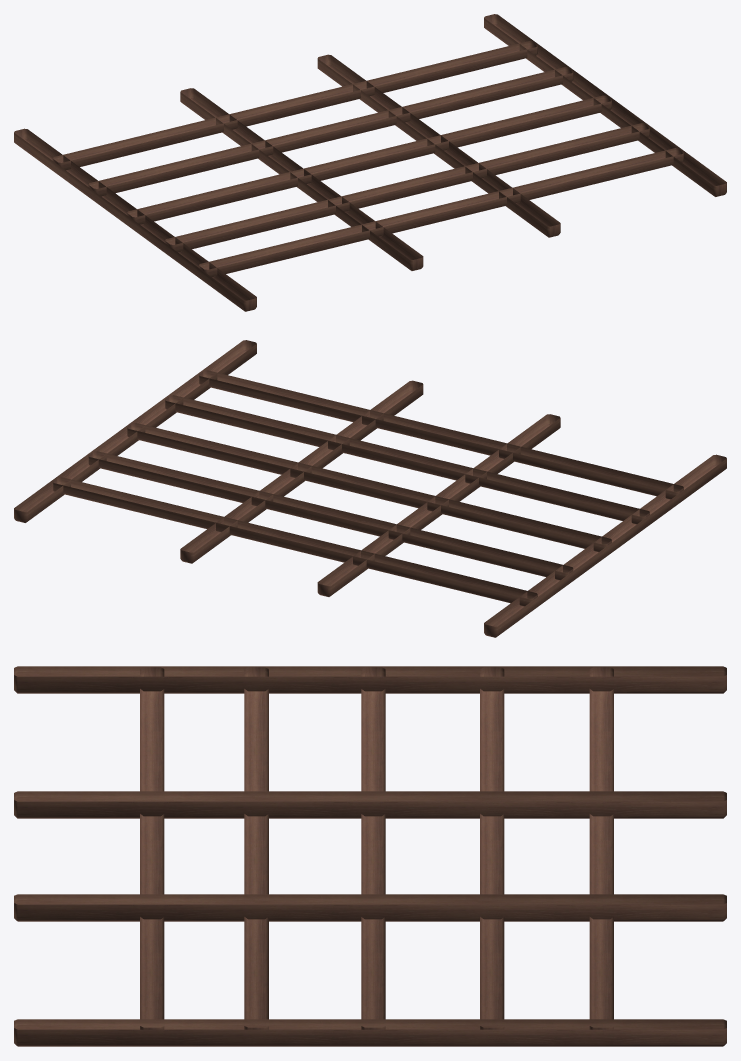
File: Top_Foundation.fbx
The picture shows the model from 3 angles, top to bottom: view 1: azimuth 30°, elevation 25°; view 2: azimuth 150°, elevation 25°; view 3: azimuth 270°, elevation 25°; orthographic projection. The views are drawn at different scales.
Visible parts, largest first — view 1: Top Foundation; view 2: Top Foundation; view 3: Top Foundation.
Boxes of the visible parts, left/top/right/bottom form: Top Foundation: left=14, top=14, right=726, bottom=311; Top Foundation: left=14, top=340, right=726, bottom=637; Top Foundation: left=14, top=666, right=726, bottom=1046.
Bounding box in the file's own units: 4940 × 122 × 4098.
1 material, 1 textured.
